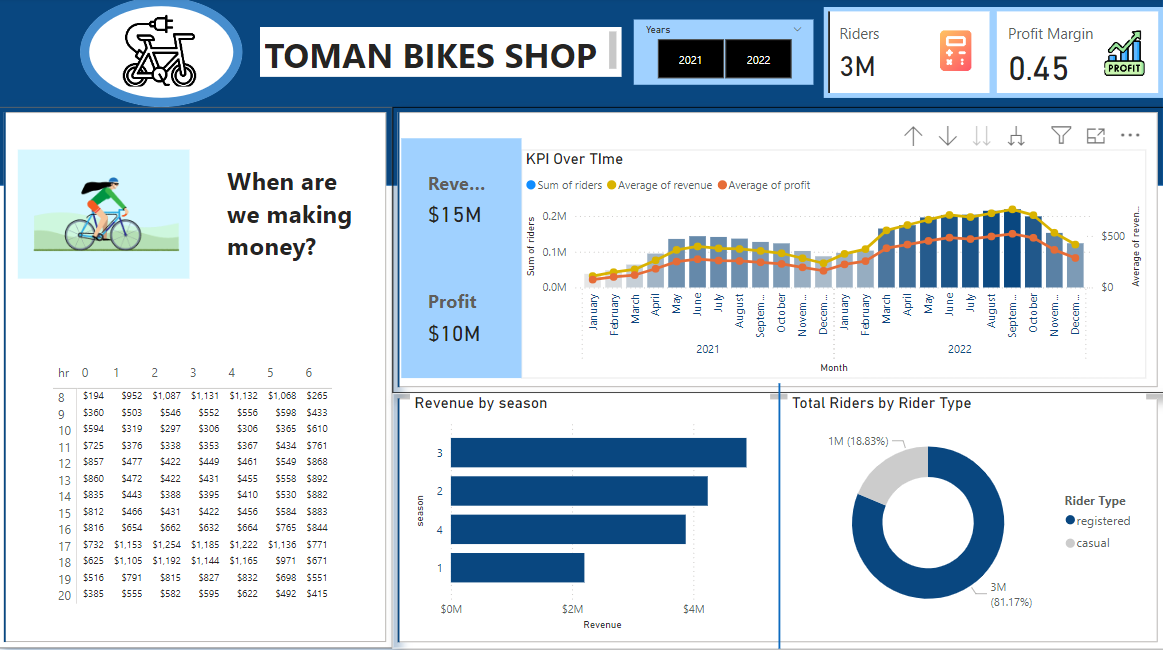

What the dashboard file says about the page in this screenshot:
{"tool":"powerbi","page":{"name":"Page 1","canvas":[1280,720],"ordinal":0},"visuals":[{"type":"shape","box":[9.6,0,1270.7,205.8],"z":0},{"type":"cardVisual","fields":{"Data":["Sum(Query1.riders)"]},"box":[9.5,120,429.5,590.4],"z":1000},{"type":"cardVisual","fields":{"Data":["Min(Query1.riders)"]},"box":[439,120,841.2,312.2],"z":2000},{"type":"cardVisual","fields":{"Data":["Min(Query1.riders)"]},"box":[439,432.2,841.2,278.1],"z":3000},{"type":"pivotTable","fields":{"Rows":["Query1.hr"],"Values":["Avg(Query1.revenue)"],"Columns":["Query1.weekday"]},"box":[64.5,395.2,337.6,279.9],"z":5000},{"type":"textbox","box":[253.9,177,161.9,146.8],"z":6000},{"type":"lineClusteredColumnComboChart","title":"KPI Over TIme","fields":{"Category":["Query1.dteday.Variation.Date Hierarchy.Year","Query1.dteday.Variation.Date Hierarchy.Month","Query1.dteday.Variation.Date Hierarchy.Day"],"Y":["Sum(Query1.riders)"],"Y2":["Avg(Query1.revenue)","Avg(Query1.profit)"]},"box":[579.5,166.3,681.7,249.5],"z":7000},{"type":"clusteredBarChart","fields":{"Category":["Query1.season"],"Y":["Sum(Query1.revenue)"]},"box":[458.3,432.2,392.5,263.5],"z":8000},{"type":"donutChart","title":"Total Riders by Rider Type","fields":{"Category":["Query1.rider_type"],"Y":["Sum(Query1.riders)"]},"box":[870,432.2,391.1,263.5],"z":9000},{"type":"shape","box":[853.5,421.3,15.1,289.5],"z":10000},{"type":"cardVisual","fields":{"Data":["Sum(Query1.revenue)","Sum(Query1.profit)"]},"box":[448.6,154.1,130.9,261.8],"z":11000},{"type":"cardVisual","fields":{"Data":["Sum(Query1.riders)","Query1.Measure"]},"box":[909.4,10.9,370.9,99.5],"z":12000},{"type":"shape","box":[98.2,0,177.2,120],"z":13000},{"type":"cardVisual","fields":{"Data":["Sum(Query1.riders)"]},"box":[124.1,2.7,109.1,100.9],"z":14000},{"type":"textbox","box":[294.5,32.7,394,54.5],"z":15000},{"type":"slicer","fields":{"Values":["Query1.Years"]},"box":[702.2,24.5,196.3,70.9],"z":16000},{"type":"cardVisual","fields":{"Data":["Sum(Query1.riders)"]},"box":[9.5,110.4,233.1,257.7],"z":16001}]}

Visuals, with their boxes in screenshot pixels (x1, y1, x2, y2), scaled from the page's 1280x720 canvas onto the 1163x650 screenshot:
shape: Rect(9, 0, 1162, 186)
cardVisual - Sum(Query1.riders): Rect(9, 108, 399, 641)
cardVisual - Min(Query1.riders): Rect(399, 108, 1162, 390)
cardVisual - Min(Query1.riders): Rect(399, 390, 1162, 641)
pivotTable - Query1.hr x Avg(Query1.revenue): Rect(59, 357, 365, 609)
textbox: Rect(231, 160, 378, 292)
"KPI Over TIme" lineClusteredColumnComboChart: Rect(527, 150, 1146, 375)
clusteredBarChart - Query1.season x Sum(Query1.revenue): Rect(416, 390, 773, 628)
"Total Riders by Rider Type" donutChart: Rect(790, 390, 1146, 628)
shape: Rect(775, 380, 789, 642)
cardVisual - Sum(Query1.revenue) x Sum(Query1.profit): Rect(408, 139, 527, 375)
cardVisual - Sum(Query1.riders) x Query1.Measure: Rect(826, 10, 1162, 100)
shape: Rect(89, 0, 250, 108)
cardVisual - Sum(Query1.riders): Rect(113, 2, 212, 94)
textbox: Rect(268, 30, 626, 79)
slicer - Query1.Years: Rect(638, 22, 816, 86)
cardVisual - Sum(Query1.riders): Rect(9, 100, 220, 332)
